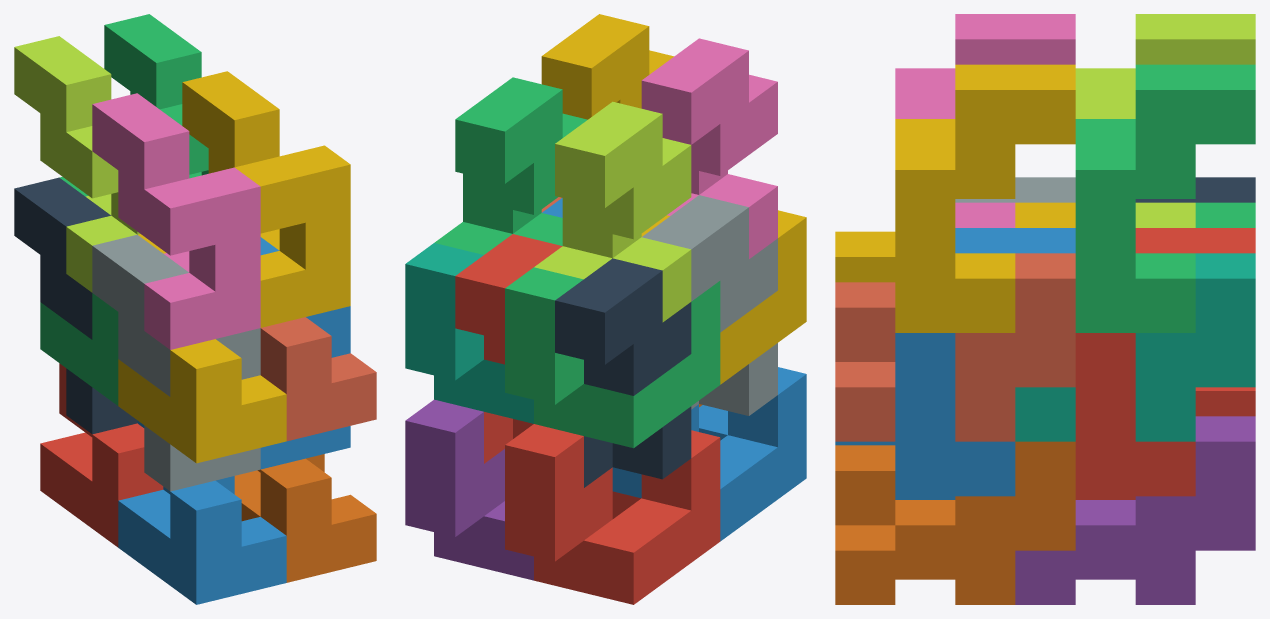
The model's file is tiling.obj.
The picture shows the model from 3 angles, left to right: view 1: azimuth 30°, elevation 25°; view 2: azimuth 150°, elevation 25°; view 3: azimuth 270°, elevation 25°; orthographic projection. The views are drawn at different scales.
Parts seen in each view (by area): view 1: copy_2_domain_4, copy_2_domain_8, copy_1_domain_2, copy_1_domain_4, copy_2_domain_3, copy_2_domain_2, copy_1_domain_6, copy_2_domain_1, copy_1_domain_8, copy_1_domain_1, copy_2_domain_7, copy_1_domain_3 (+1 smaller); view 2: copy_1_domain_1, copy_2_domain_3, copy_1_domain_3, copy_2_domain_1, copy_2_domain_4, copy_2_domain_7, copy_1_domain_5, copy_2_domain_2, copy_1_domain_2, copy_1_domain_7, copy_2_domain_8, copy_2_domain_5 (+1 smaller); view 3: copy_2_domain_8, copy_2_domain_7, copy_1_domain_6, copy_1_domain_8, copy_1_domain_5, copy_1_domain_7, copy_2_domain_5, copy_2_domain_6, copy_2_domain_3, copy_2_domain_4, copy_1_domain_4, copy_1_domain_1 (+3 smaller).
Part boxes in pixels (x1,y1,x2,y2): copy_2_domain_4: [92, 93, 260, 349]; copy_2_domain_8: [182, 71, 350, 327]; copy_1_domain_2: [118, 420, 286, 604]; copy_1_domain_4: [118, 234, 286, 463]; copy_2_domain_3: [14, 36, 140, 292]; copy_2_domain_2: [92, 234, 260, 491]; copy_1_domain_6: [234, 454, 376, 582]; copy_2_domain_1: [14, 177, 137, 434]; copy_1_domain_8: [260, 317, 376, 441]; copy_1_domain_1: [40, 363, 163, 547]; copy_2_domain_7: [104, 14, 208, 178]; copy_1_domain_3: [40, 177, 118, 405]; copy_1_domain_1: [505, 424, 720, 604]; copy_2_domain_3: [534, 101, 691, 322]; copy_1_domain_3: [505, 267, 720, 448]; copy_2_domain_1: [555, 258, 691, 487]; copy_2_domain_4: [641, 38, 777, 258]; copy_2_domain_7: [434, 77, 587, 254]; copy_1_domain_5: [405, 399, 533, 580]; copy_2_domain_2: [642, 195, 777, 415]; copy_1_domain_2: [612, 367, 806, 541]; copy_1_domain_7: [405, 243, 533, 423]; copy_2_domain_8: [541, 14, 673, 119]; copy_2_domain_5: [455, 234, 562, 463]; copy_2_domain_8: [895, 64, 1075, 332]; copy_2_domain_7: [1075, 64, 1255, 332]; copy_1_domain_6: [835, 441, 1075, 604]; copy_1_domain_8: [835, 253, 1075, 441]; copy_1_domain_5: [1015, 416, 1255, 604]; copy_1_domain_7: [1015, 253, 1255, 441]; copy_2_domain_5: [1075, 228, 1255, 496]; copy_2_domain_6: [895, 228, 1075, 496]; copy_2_domain_3: [1075, 14, 1255, 227]; copy_2_domain_4: [895, 14, 1075, 227]; copy_1_domain_4: [835, 202, 1075, 282]; copy_1_domain_1: [1075, 387, 1255, 499].
Size of the model in its own units: 4 by 9 by 7.
